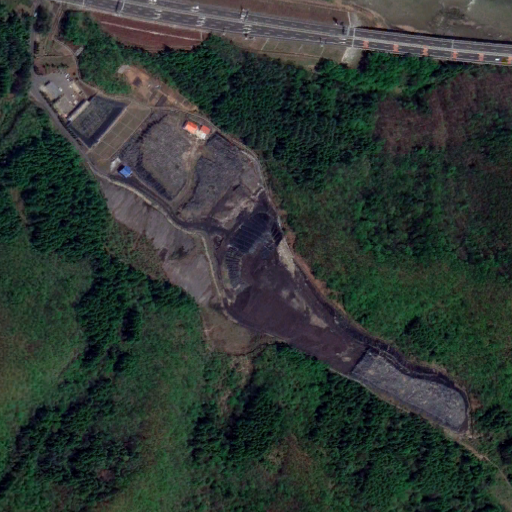lf: (115, 101, 466, 433)
